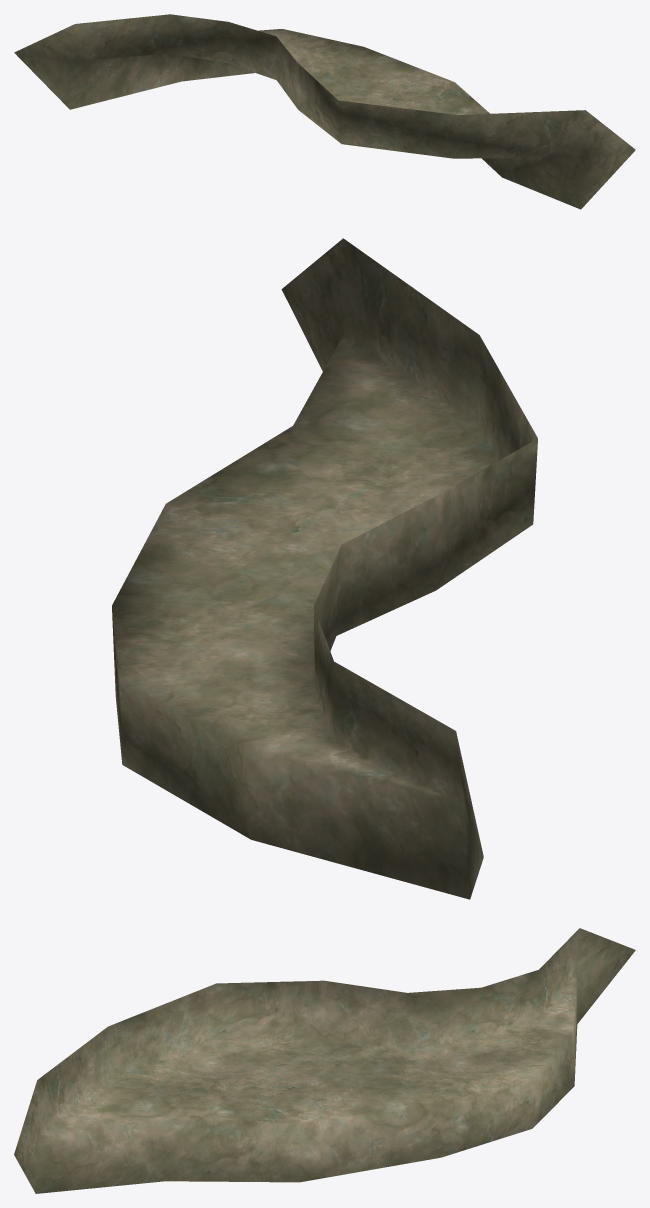
Rendered from EKH_THRONE_PS_TH_BACK_PLATFORM.fbx.
The picture shows the model from 3 angles, top to bottom: view 1: azimuth 30°, elevation 25°; view 2: azimuth 150°, elevation 25°; view 3: azimuth 270°, elevation 25°; orthographic projection. The views are drawn at different scales.
Visible parts, largest first — view 1: EKH_THRONE_PS_TH_BACK_PLATFORM; view 2: EKH_THRONE_PS_TH_BACK_PLATFORM; view 3: EKH_THRONE_PS_TH_BACK_PLATFORM.
Part boxes in pixels (left/top/right/bottom): EKH_THRONE_PS_TH_BACK_PLATFORM: left=14, top=14, right=635, bottom=209; EKH_THRONE_PS_TH_BACK_PLATFORM: left=112, top=238, right=537, bottom=899; EKH_THRONE_PS_TH_BACK_PLATFORM: left=14, top=928, right=635, bottom=1193.
Size of the model in its own units: 39851 by 10577 by 49713.
Materials: 1 (1 with a texture image).
